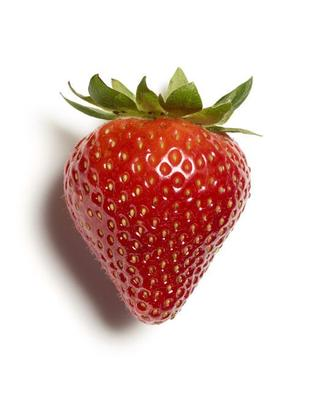strawberry: (0, 0, 314, 400)
